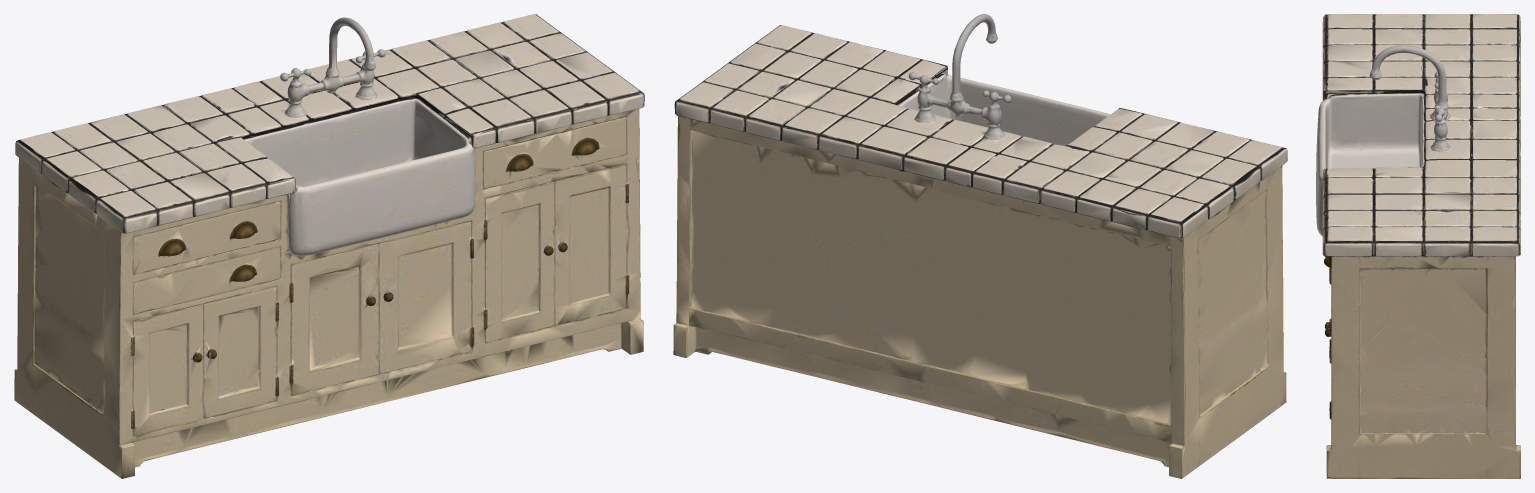
File: k_counter.glb
The picture shows the model from 3 angles, left to right: view 1: azimuth 30°, elevation 25°; view 2: azimuth 150°, elevation 25°; view 3: azimuth 270°, elevation 25°; orthographic projection. The views are drawn at different scales.
Size of the model in its own units: 1.9 by 1.25 by 0.7154.
1 material, 1 textured.
